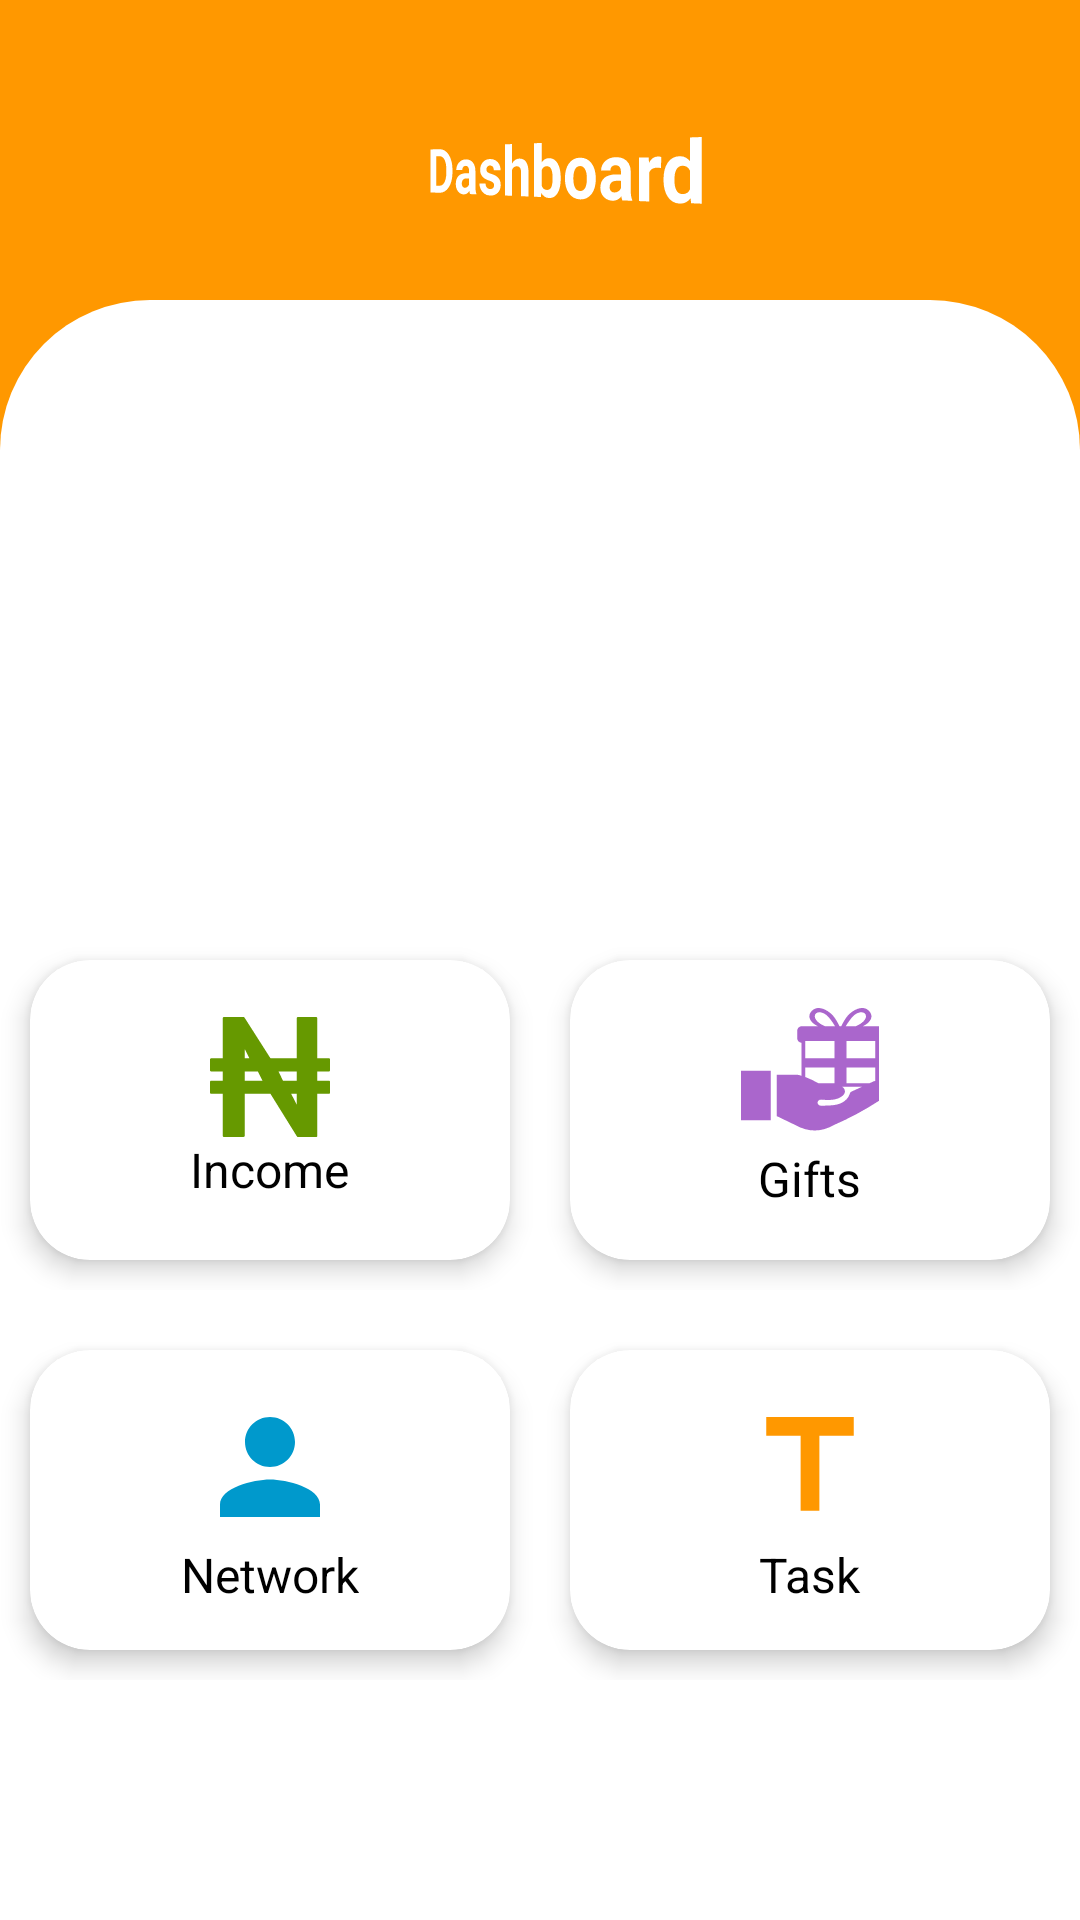

Icons on this 1080px×1920px Android screen, each with its box as [x1,y1,x2,y2]:
naira: [210,1017,330,1137]
